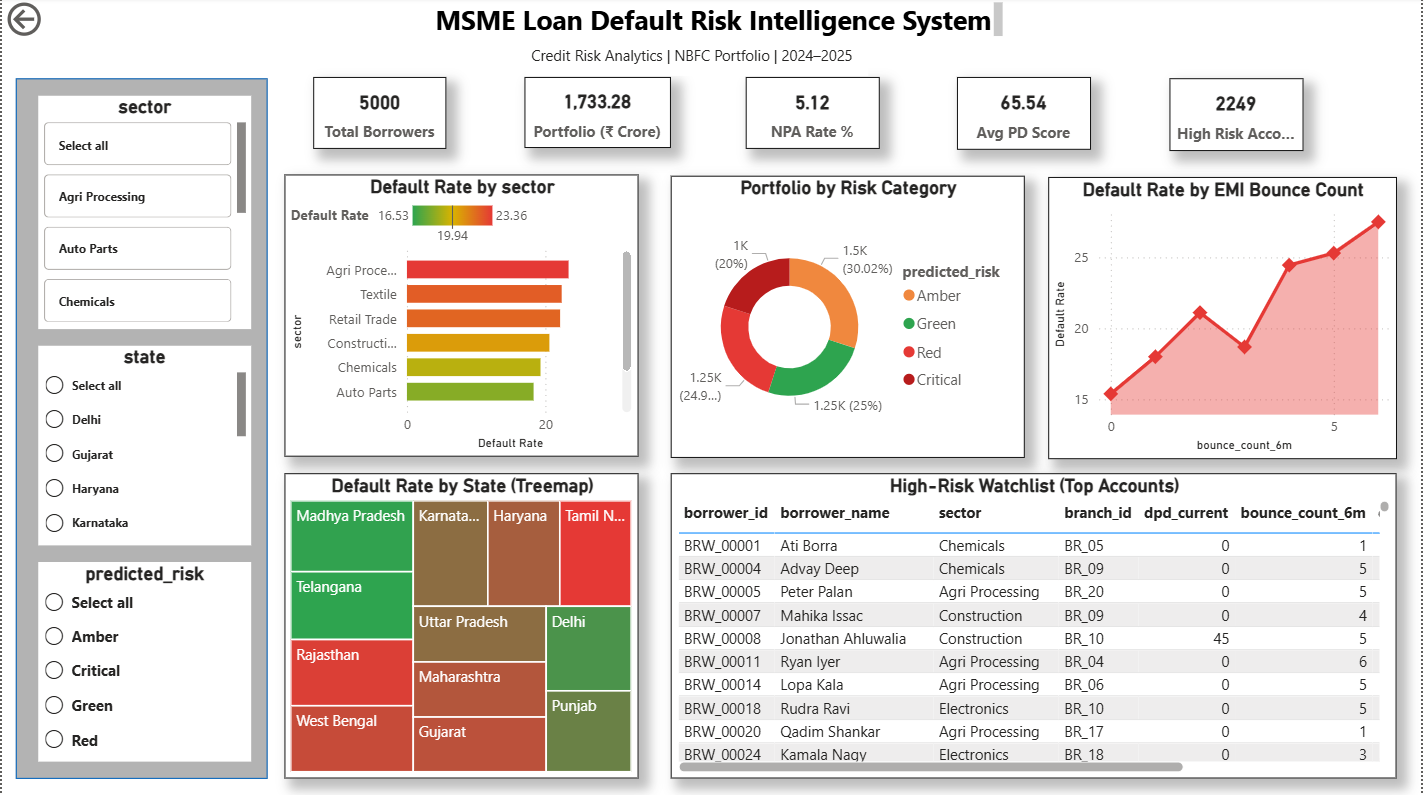

The dashboard page shown, as its layout file describes it:
{"tool":"powerbi","page":{"name":"Portfolio Health","canvas":[1280,720],"ordinal":0},"visuals":[{"type":"card","fields":{"Values":["CountNonNull(msme_loans_scored.borrower_id)"]},"box":[280.5,72,120,65],"z":0},{"type":"shape","box":[12.4,73.2,227.2,631.8],"z":0,"group":"g1"},{"type":"card","fields":{"Values":["msme_loans_scored.High Risk Count"]},"box":[1052.6,73.2,120.4,65.8],"z":1000},{"type":"advancedSlicerVisual","fields":{"Values":["msme_loans_scored.sector"]},"box":[32.3,89.2,192,210.3],"z":1000,"group":"g1"},{"type":"card","fields":{"Values":["msme_loans_scored.NPA Rate"]},"box":[670.3,72,120.4,64.5],"z":2000},{"type":"listSlicer","fields":{"Values":["msme_loans_scored.state"]},"box":[32.3,314.6,192,180.3],"z":2000,"group":"g1"},{"type":"card","fields":{"Values":["msme_loans_scored.Portfolio Crore"]},"box":[471.1,72.1,131.9,64.2],"z":3000},{"type":"listSlicer","fields":{"Values":["msme_loans_scored.predicted_risk"]},"box":[32.3,509.9,192,180.3],"z":3000,"group":"g1"},{"type":"card","fields":{"Values":["msme_loans_scored.Avg PD Score"]},"box":[861.5,72,120.4,65.8],"z":4000},{"type":"clusteredBarChart","fields":{"Category":["msme_loans_scored.sector"],"Y":["msme_loans_scored.Default Rate"]},"box":[254.5,160.1,319,254.5],"z":5000},{"type":"donutChart","title":"Portfolio by Risk Category","fields":{"Category":["msme_loans_scored.predicted_risk"],"Y":["CountNonNull(msme_loans_scored.borrower_id)"]},"box":[603.3,161.4,319,254.5],"z":6000},{"type":"lineChart","title":"Default Rate by EMI Bounce Count","fields":{"Category":["msme_loans_scored.bounce_count_6m"],"Y":["msme_loans_scored.Default Rate"]},"box":[943.4,162.6,314,254.5],"z":7000},{"type":"tableEx","title":"High-Risk Watchlist (Top Accounts)","fields":{"Values":["msme_loans_scored.borrower_id","msme_loans_scored.borrower_name","msme_loans_scored.sector","msme_loans_scored.branch_id","msme_loans_scored.dpd_current","msme_loans_scored.bounce_count_6m","msme_loans_scored.credit_score","msme_loans_scored.pd_score","msme_loans_scored.predicted_risk"]},"box":[603.3,429.5,654.2,275.6],"z":8000},{"type":"actionButton","box":[0,0,100,40],"z":9000},{"type":"treemap","title":"Default Rate by State (Treemap)","fields":{"Group":["msme_loans_scored.state"],"Values":["msme_loans_scored.Default Rate"]},"box":[254.5,429.5,319,275.6],"z":10000},{"type":"textbox","box":[385.6,0,521.4,41.2],"z":11000},{"type":"textbox","box":[472,38.4,308.7,32.9],"z":12000},{"type":"group","id":"g1","title":"Group 1","box":[12.4,73.2,227.2,631.8],"z":13000}]}

Visuals, with their boxes in screenshot pixels (x1, y1, x2, y2), scaled from the page's 1280x720 canvas onto the 1424x795 screenshot:
card - CountNonNull(msme_loans_scored.borrower_id): 312/80/446/151
shape: 14/81/267/778
card - msme_loans_scored.High Risk Count: 1171/81/1305/153
advancedSlicerVisual - msme_loans_scored.sector: 36/98/250/331
card - msme_loans_scored.NPA Rate: 746/80/880/151
listSlicer - msme_loans_scored.state: 36/347/250/546
card - msme_loans_scored.Portfolio Crore: 524/80/671/150
listSlicer - msme_loans_scored.predicted_risk: 36/563/250/762
card - msme_loans_scored.Avg PD Score: 958/80/1092/152
clusteredBarChart - msme_loans_scored.sector x msme_loans_scored.Default Rate: 283/177/638/458
"Portfolio by Risk Category" donutChart: 671/178/1026/459
"Default Rate by EMI Bounce Count" lineChart: 1050/180/1399/461
"High-Risk Watchlist (Top Accounts)" tableEx: 671/474/1399/779
actionButton: 0/0/111/44
"Default Rate by State (Treemap)" treemap: 283/474/638/779
textbox: 429/0/1009/45
textbox: 525/42/869/79
"Group 1" group: 14/81/267/778
